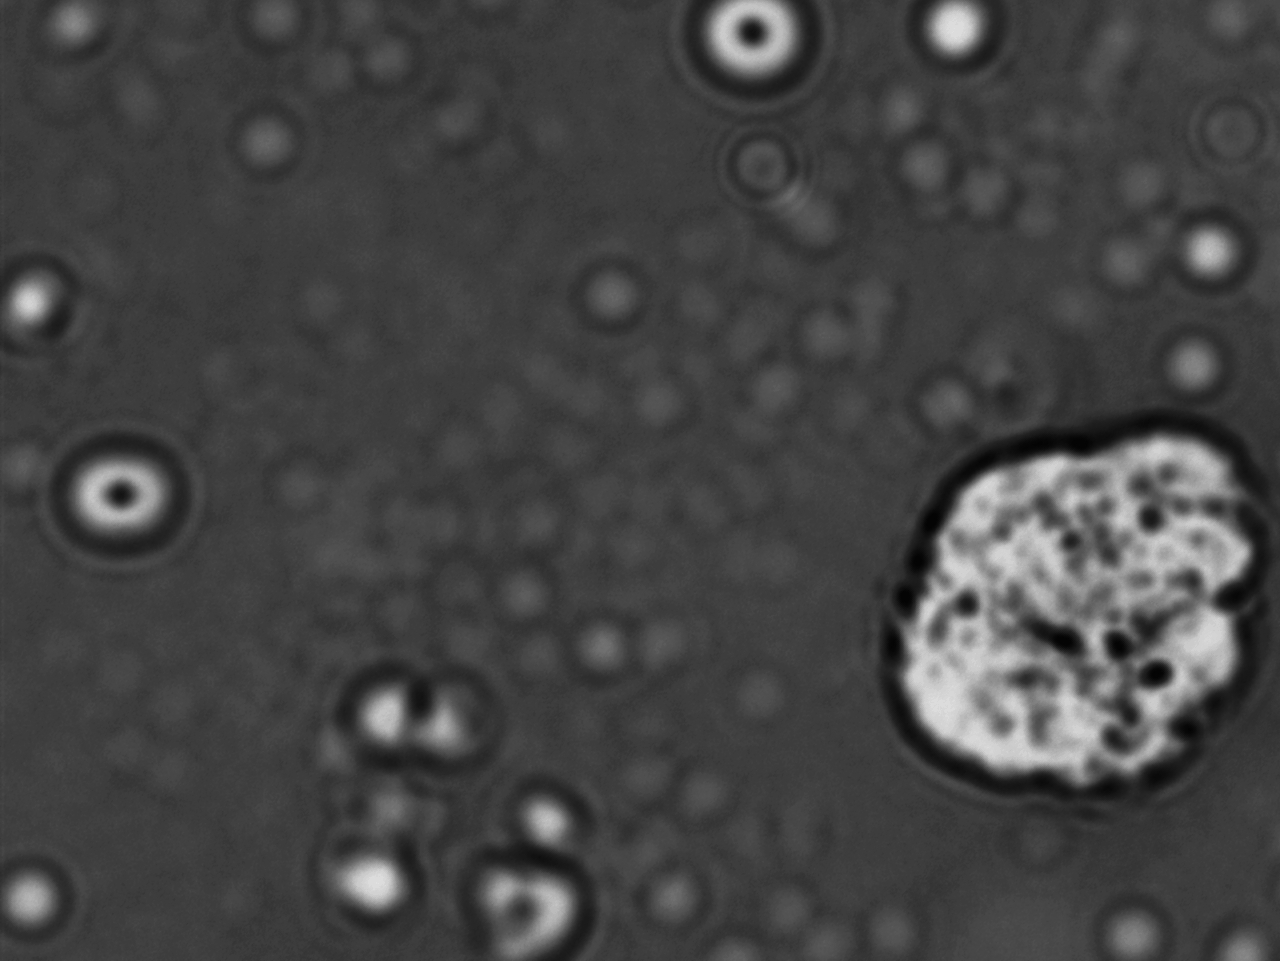depth:24: (40, 421, 207, 579)
